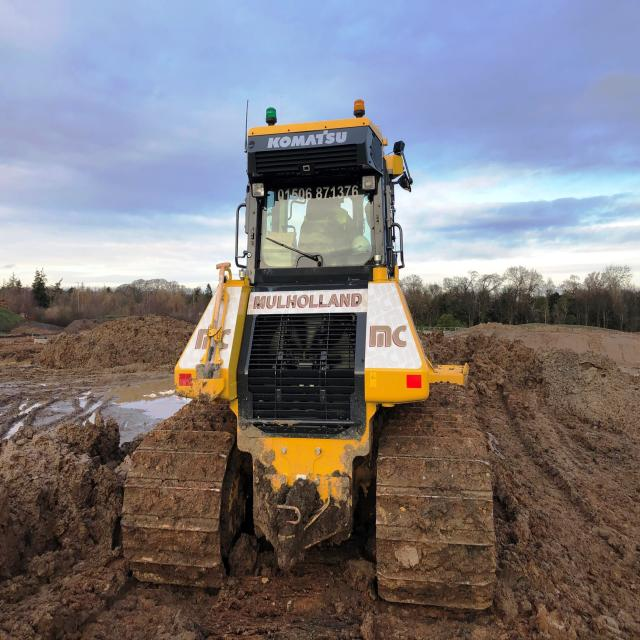buldozerpayloadergrader: (104, 80, 524, 634)
